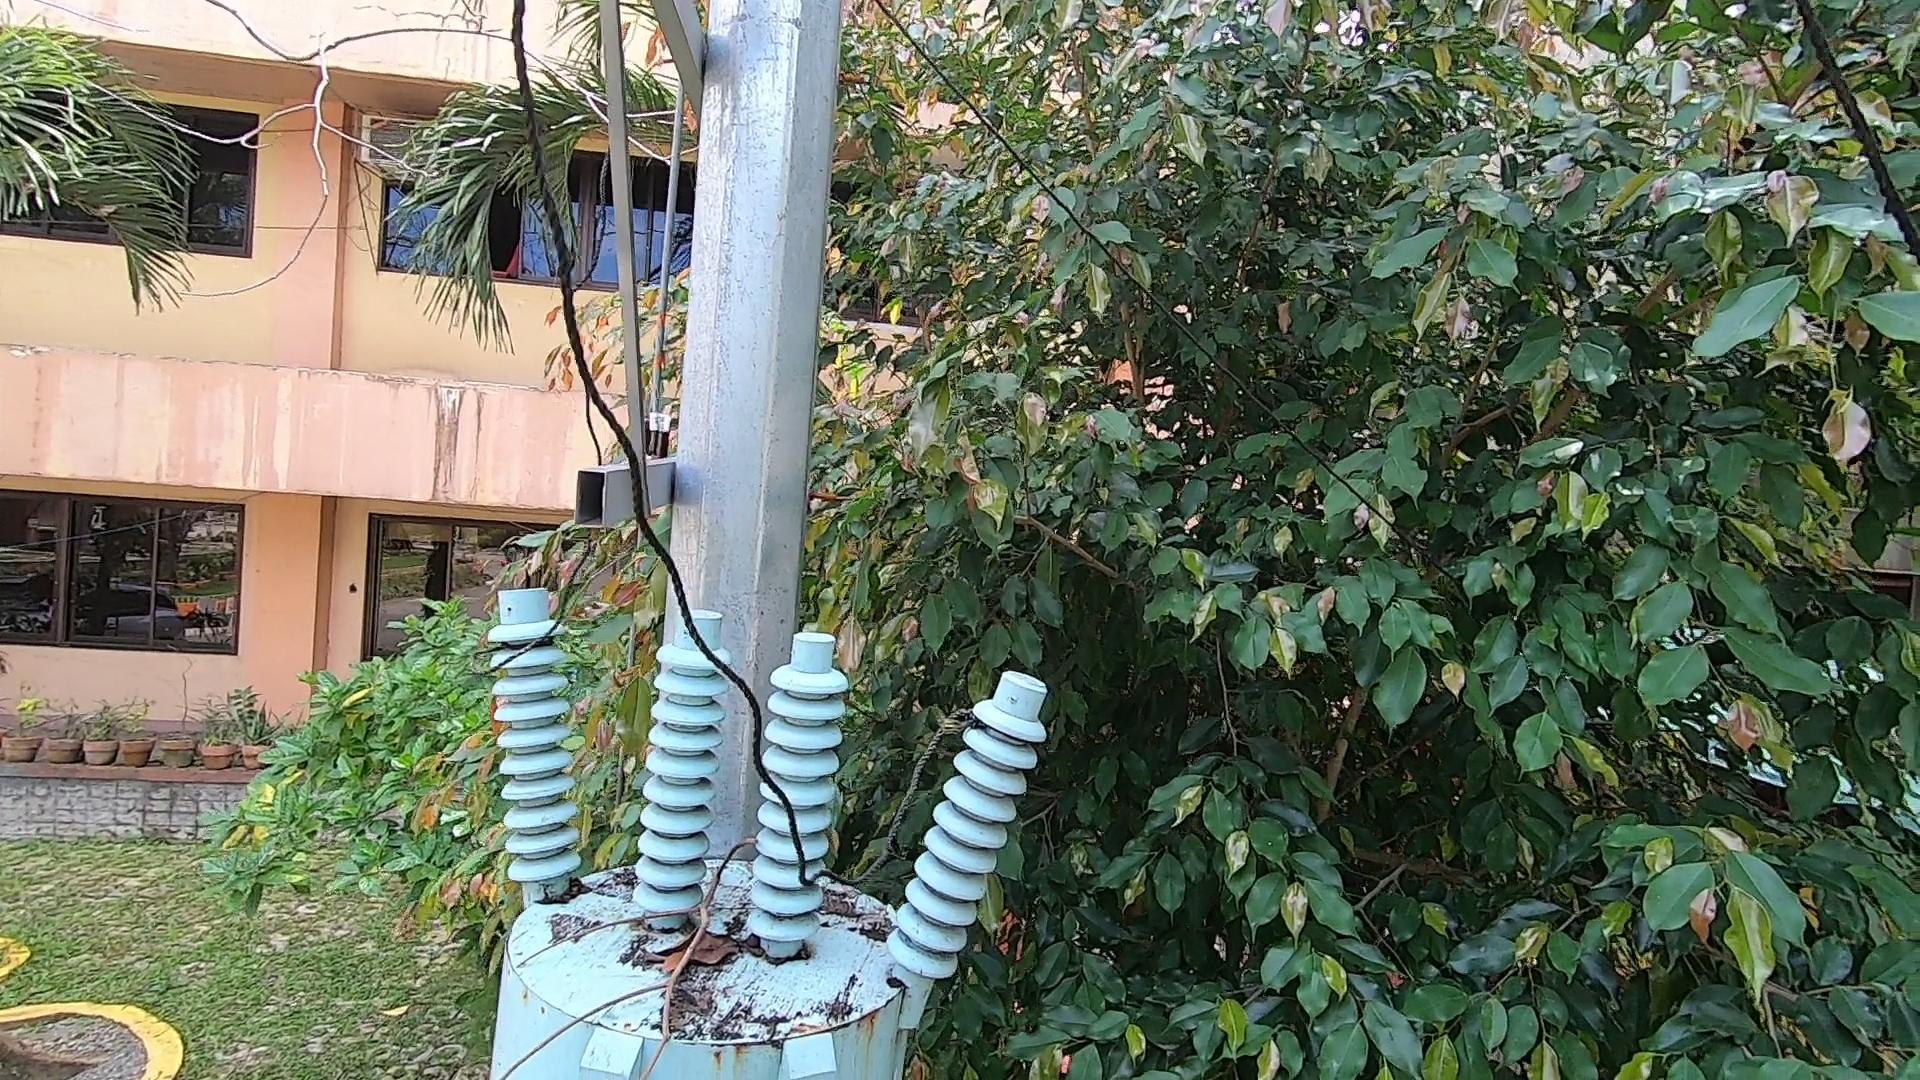leaf: (622, 923, 761, 978), (818, 877, 894, 945), (527, 866, 589, 913)
tree branch: (497, 802, 756, 1080)
